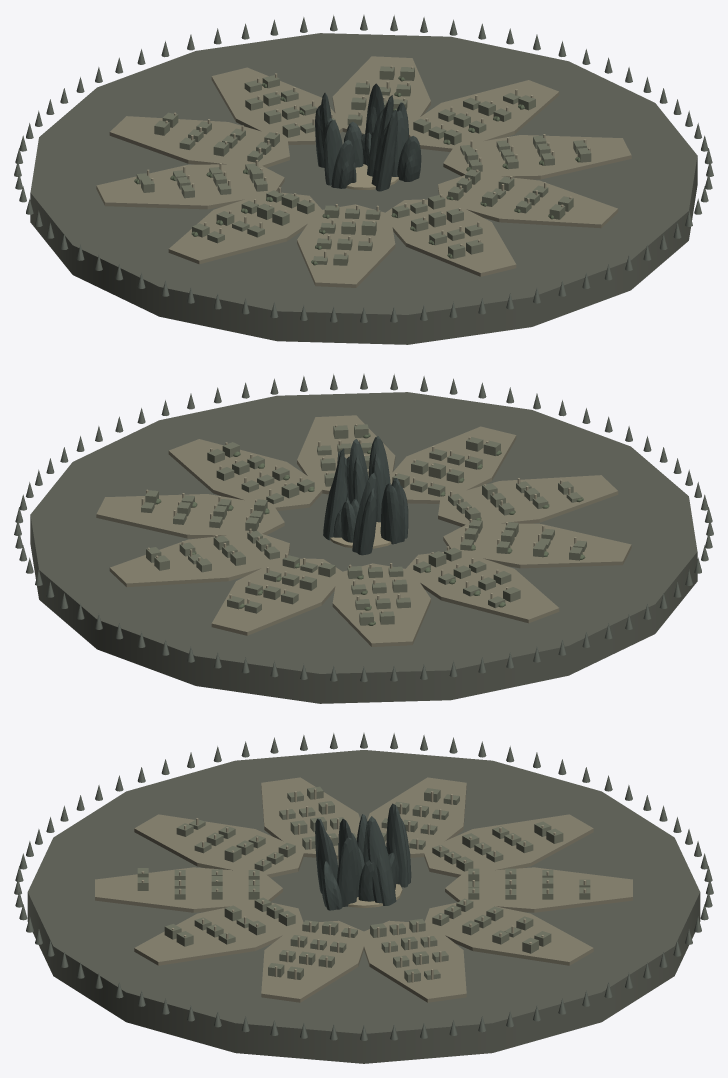
Rendered from akinah.glb.
3 renders of one model, top to bottom at view 1: azimuth 30°, elevation 25°; view 2: azimuth 150°, elevation 25°; view 3: azimuth 270°, elevation 25°, orthographic.
Visible parts, largest first — view 1: Akinah_v2_stone; view 2: Akinah_v2_stone; view 3: Akinah_v2_stone.
Part boxes in pixels (left/top/right/bottom): Akinah_v2_stone: left=14, top=15, right=713, bottom=344; Akinah_v2_stone: left=14, top=374, right=713, bottom=703; Akinah_v2_stone: left=14, top=733, right=713, bottom=1063.
Bounding box in the file's own units: 510 × 106 × 510.
